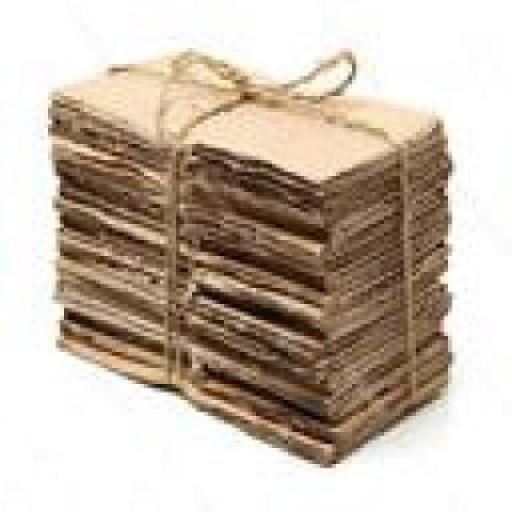cardboard: (60, 48, 456, 460)
